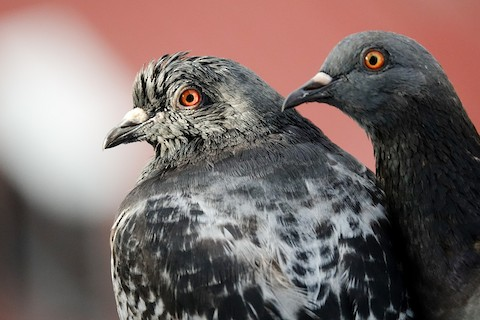pigeon: (98, 46, 420, 320), (278, 22, 480, 317)
